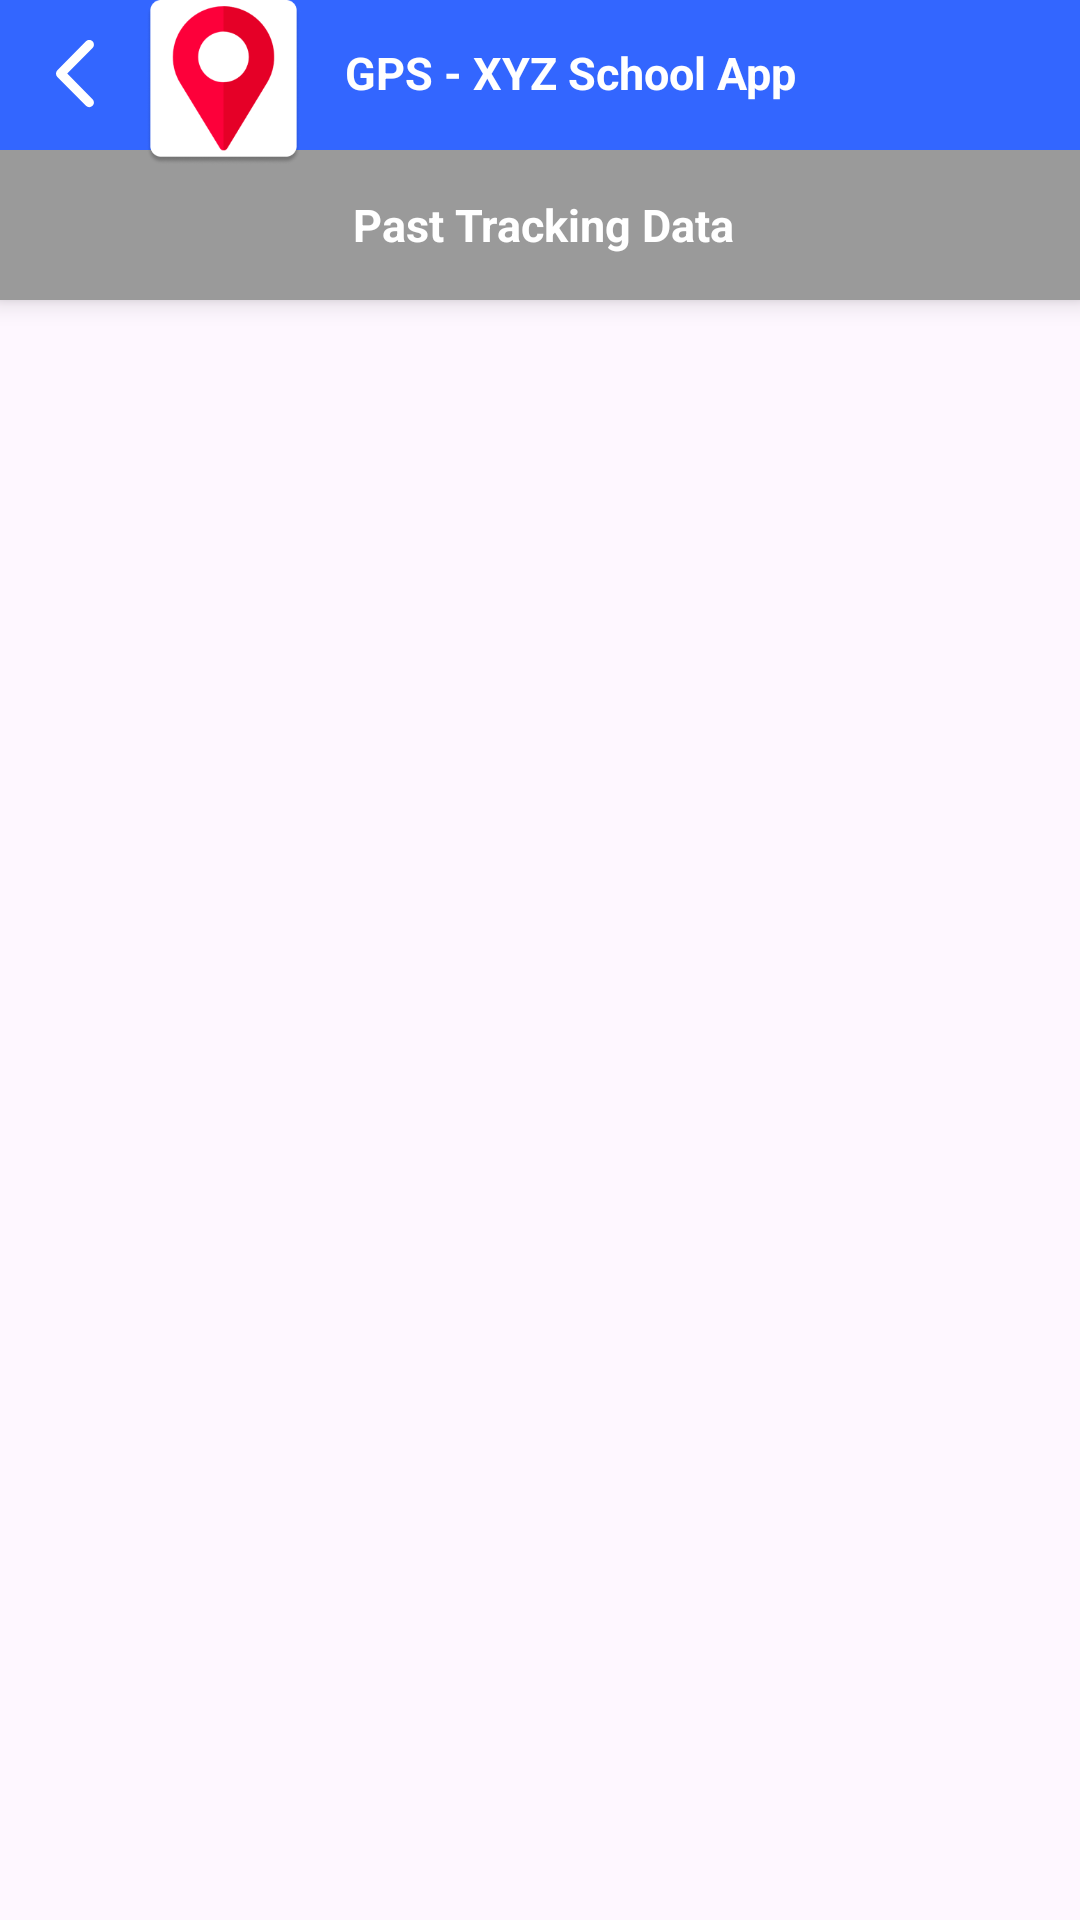

Point at icon controls on the screen. Image size 1080x1920, points as [x,y].
left arrow: [75,74]
